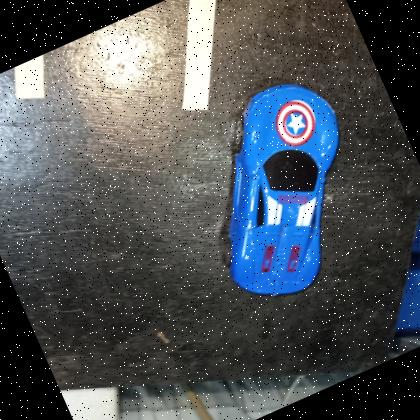Car: (162, 64, 400, 319)
